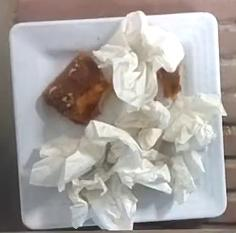pizza_crust: (43, 53, 108, 124)
